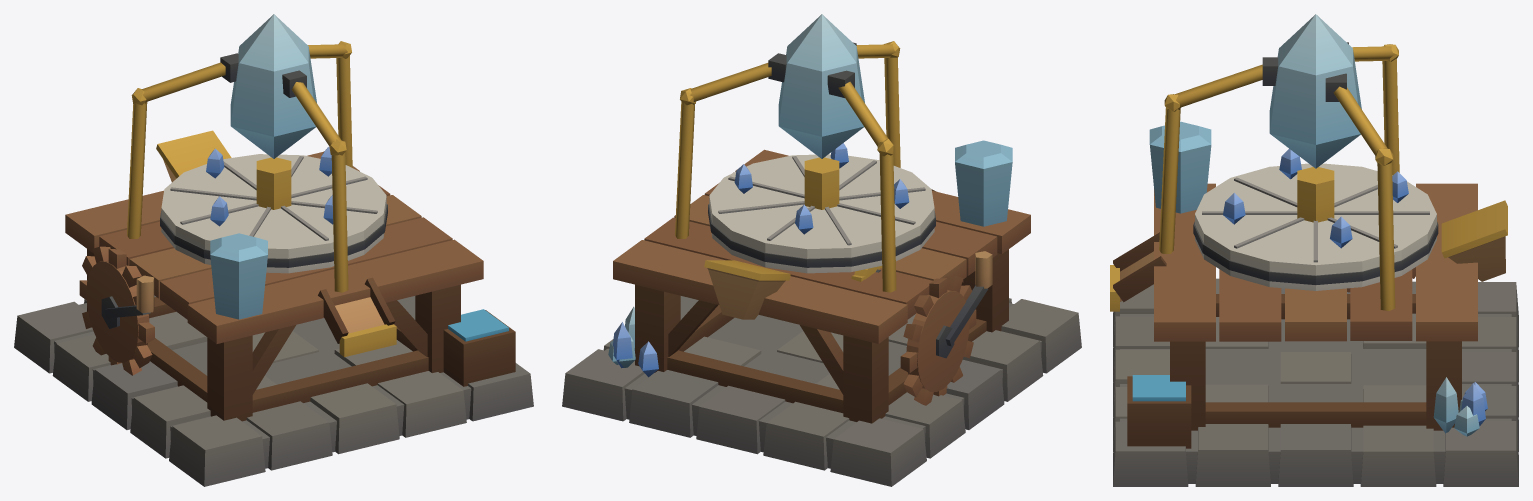
Rendered from mach_crystal_refiner.glb.
3 renders of one model, left to right at view 1: azimuth 30°, elevation 25°; view 2: azimuth 150°, elevation 25°; view 3: azimuth 270°, elevation 25°, orthographic. The views are drawn at different scales.
Visible parts, largest first — view 1: mach_crystal_refiner; view 2: mach_crystal_refiner; view 3: mach_crystal_refiner.
Boxes of the visible parts, left/top/right/bottom form: mach_crystal_refiner: left=14, top=14, right=533, bottom=486; mach_crystal_refiner: left=562, top=14, right=1081, bottom=486; mach_crystal_refiner: left=1110, top=14, right=1518, bottom=486.
Bounding box in the file's own units: 5.7 × 6 × 5.74.
1 material, 1 textured.
